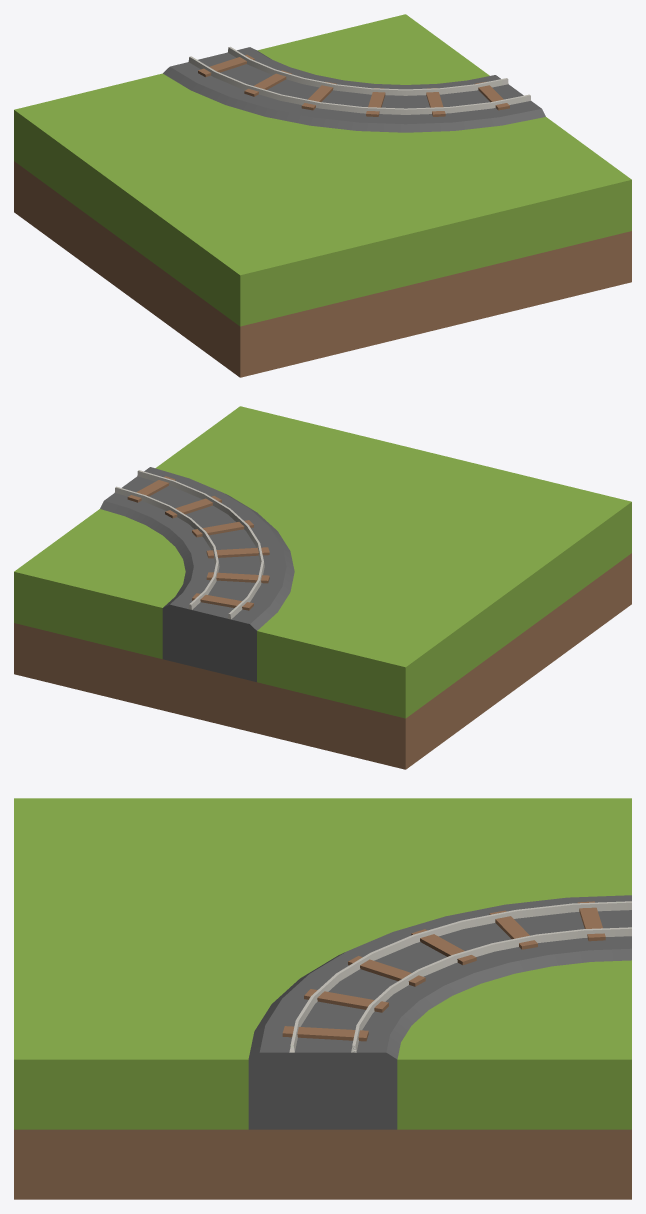
The model's file is rail_turn.fbx.
3 views of the same model, one above another, from view 1: azimuth 30°, elevation 25°; view 2: azimuth 150°, elevation 25°; view 3: azimuth 270°, elevation 25° (orthographic). The views are drawn at different scales.
Parts seen in each view (by area): view 1: landscape-track-1-curve; view 2: landscape-track-1-curve; view 3: landscape-track-1-curve.
Part boxes in pixels (<box>): landscape-track-1-curve: <box>14,14,631,377</box>; landscape-track-1-curve: <box>14,406,631,769</box>; landscape-track-1-curve: <box>14,798,631,1199</box>.
Bounding box in the file's own units: 8 × 2.2 × 8.
1 material, 1 textured.
